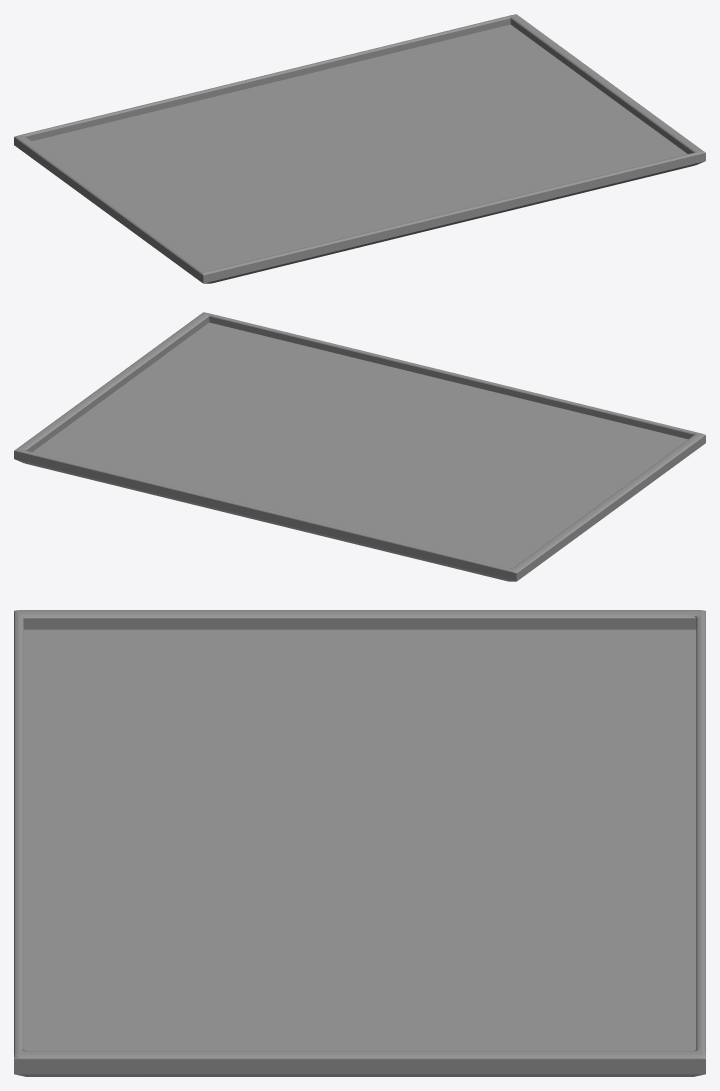
Rendered from tray.fbx.
3 renders of one model, top to bottom at view 1: azimuth 30°, elevation 25°; view 2: azimuth 150°, elevation 25°; view 3: azimuth 270°, elevation 25°, orthographic. The views are drawn at different scales.
Parts seen in each view (by area): view 1: Cube; view 2: Cube; view 3: Cube.
Boxes of the visible parts, <box> form: Cube: <box>14,14,705,283</box>; Cube: <box>14,312,705,581</box>; Cube: <box>14,610,705,1076</box>.
Bounding box in the file's own units: 258 × 7.66 × 168.
